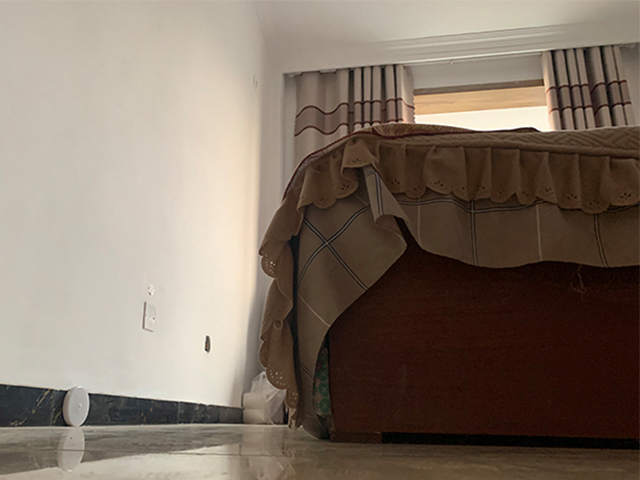bed: (256, 121, 640, 446)
